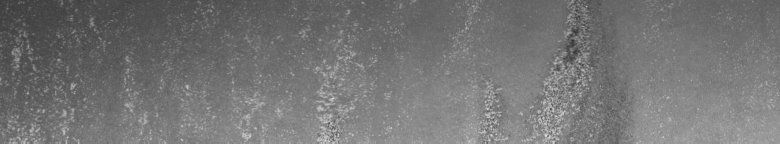hc: (486, 14, 584, 120)
